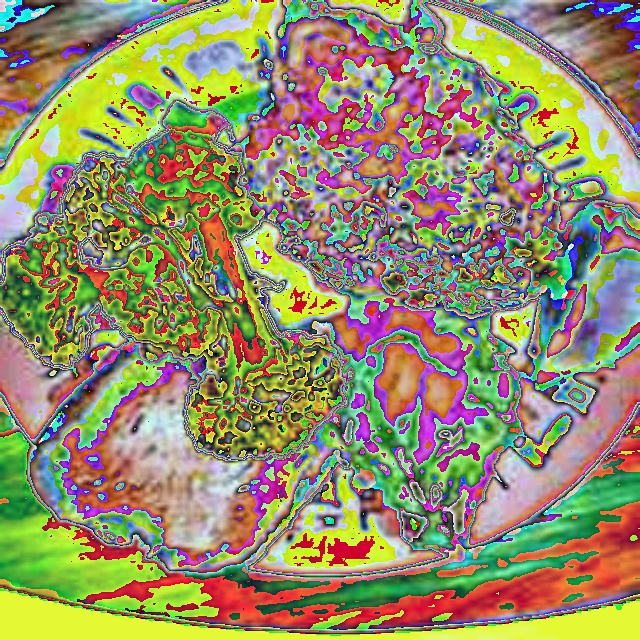background: (0, 0, 638, 585)
